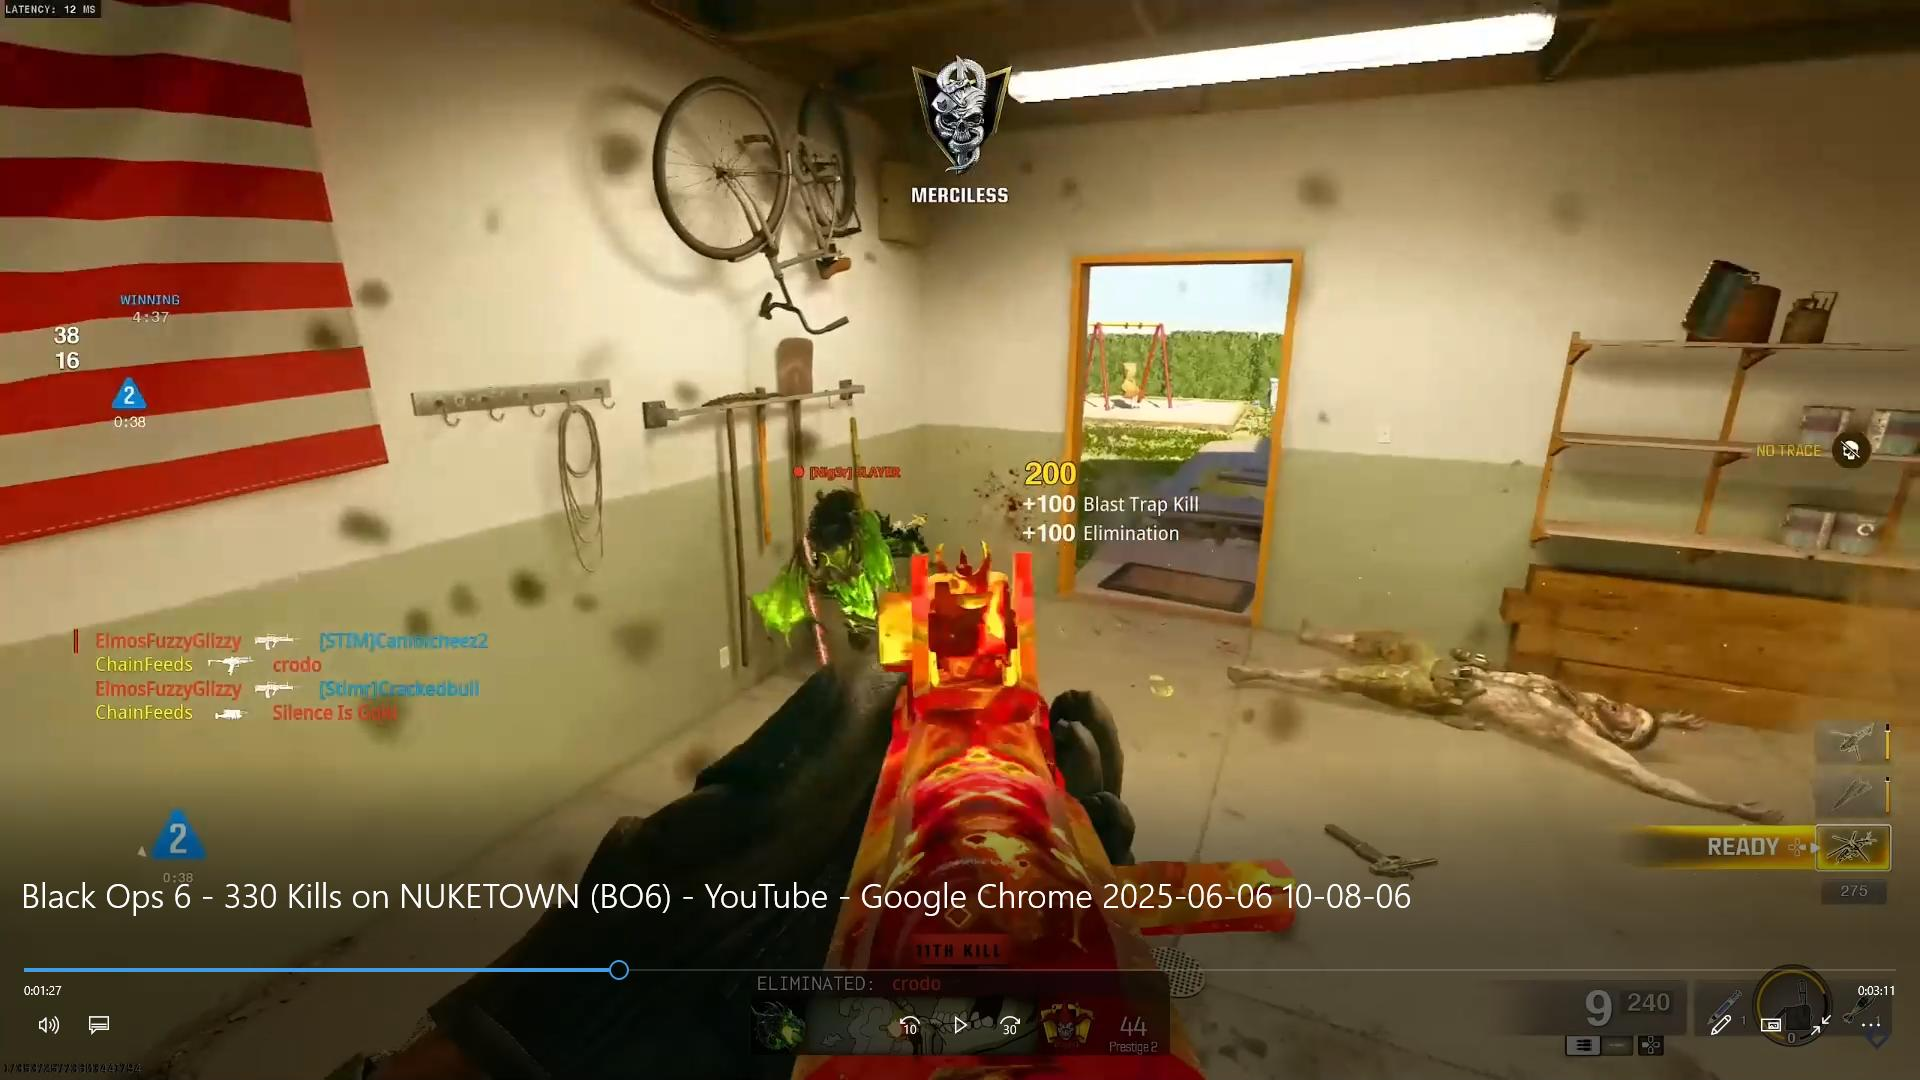Enemy: (774, 439, 916, 599)
